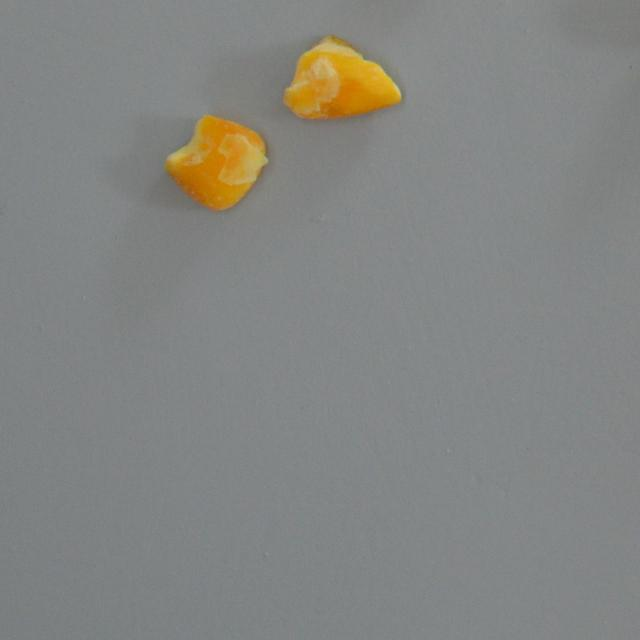pelicula: (283, 36, 404, 126), (161, 113, 268, 214)
